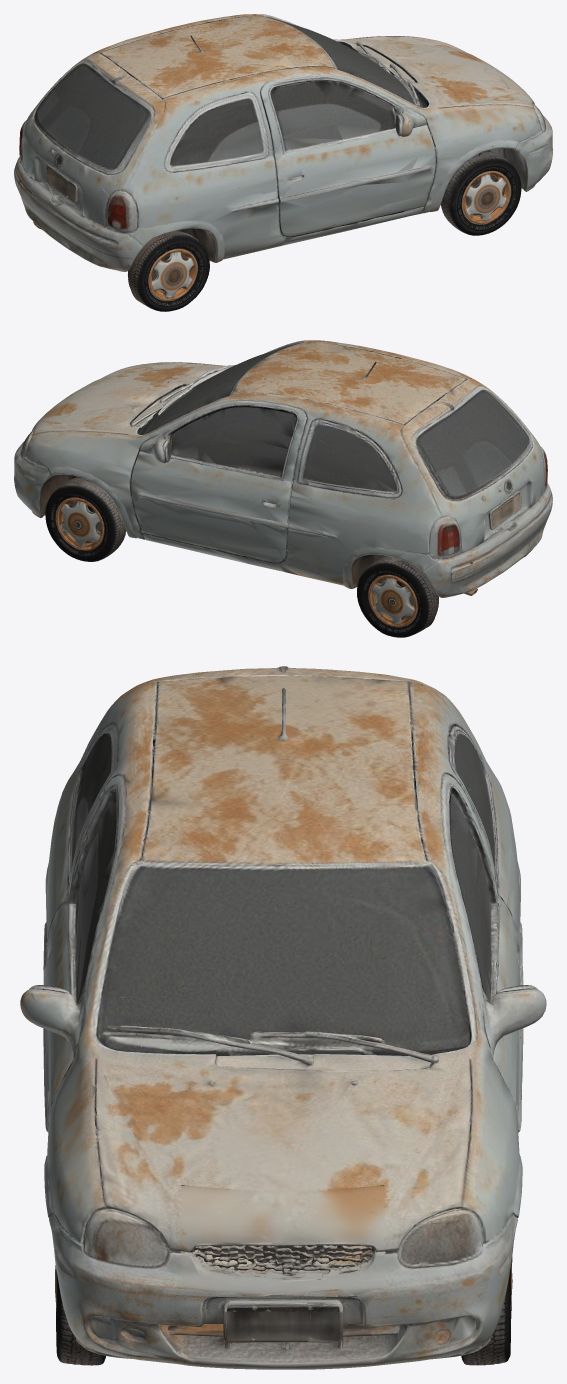
File: caipora-abandonado__01a16c1c.glb
The picture shows the model from 3 angles, top to bottom: view 1: azimuth 30°, elevation 25°; view 2: azimuth 150°, elevation 25°; view 3: azimuth 270°, elevation 25°; orthographic projection. The views are drawn at different scales.
Parts seen in each view (by area): view 1: caipora-abandonado; view 2: caipora-abandonado; view 3: caipora-abandonado.
Boxes of the visible parts, bbox=[...] form: caipora-abandonado: bbox=[14, 14, 552, 311]; caipora-abandonado: bbox=[14, 340, 552, 637]; caipora-abandonado: bbox=[20, 666, 546, 1369].
Size of the model in its own units: 3.73 by 1.65 by 1.81.
1 material, 1 textured.
